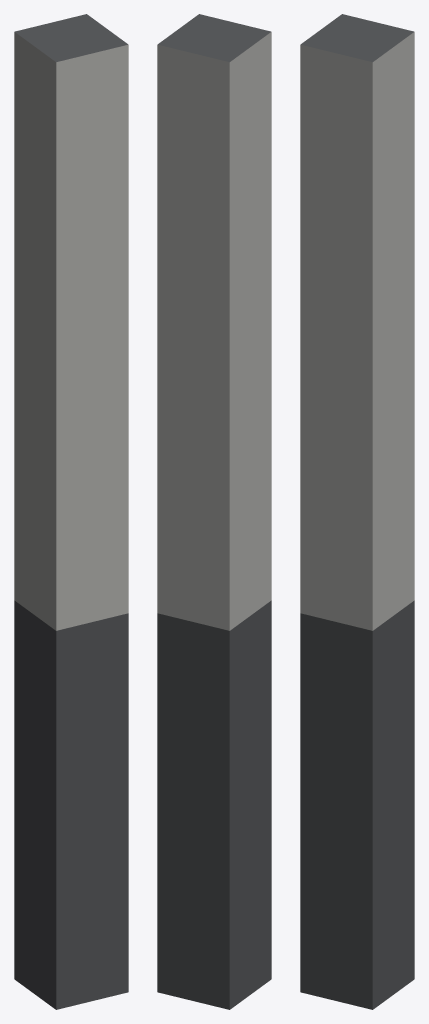
Rendered from SM_Workshop_Wall_Block_Corner_01.fbx.
3 views of the same model, side by side, from view 1: azimuth 30°, elevation 25°; view 2: azimuth 150°, elevation 25°; view 3: azimuth 330°, elevation 25° (orthographic).
Visible parts, largest first — view 1: SM_Workshop_Wall_Block_Corner_01; view 2: SM_Workshop_Wall_Block_Corner_01; view 3: SM_Workshop_Wall_Block_Corner_01.
Boxes of the visible parts, bbox=[...] form: SM_Workshop_Wall_Block_Corner_01: bbox=[14, 14, 128, 1009]; SM_Workshop_Wall_Block_Corner_01: bbox=[157, 14, 271, 1009]; SM_Workshop_Wall_Block_Corner_01: bbox=[300, 14, 414, 1009].
Size of what is drawn, in the model's own units: 0.24 by 3 by 0.24.
Materials: 1 (1 with a texture image).
